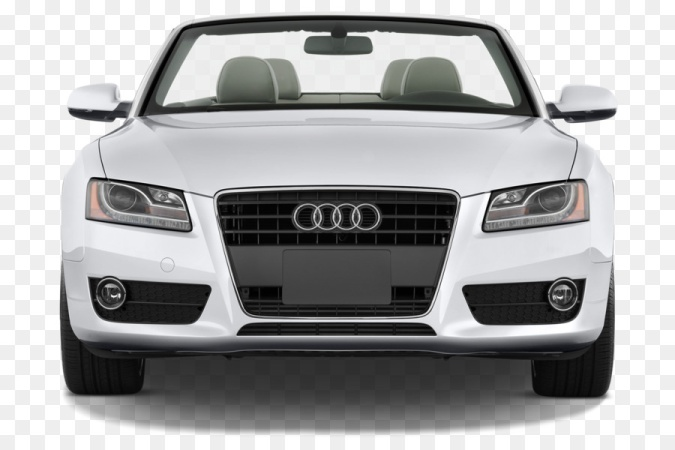audi: (288, 197, 387, 237)
